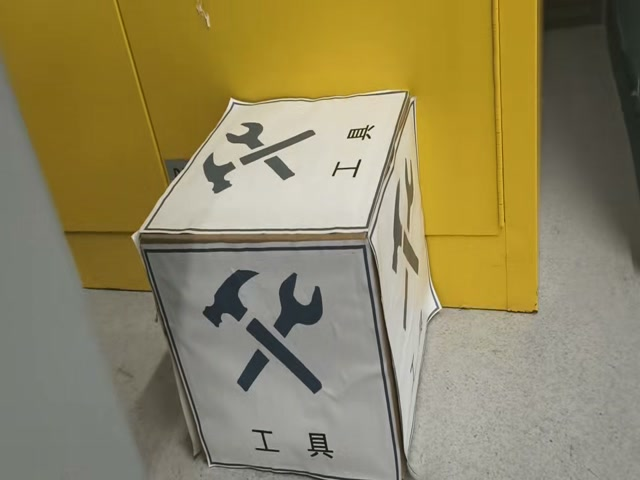Cube_tool: (131, 97, 415, 246)
